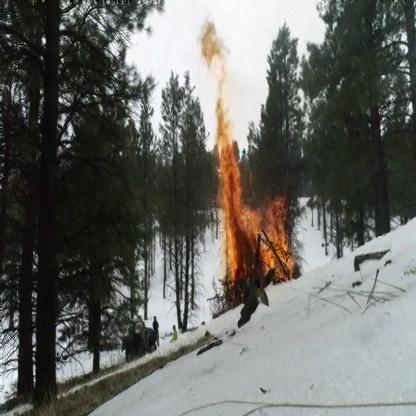Fire: (196, 15, 295, 298)
